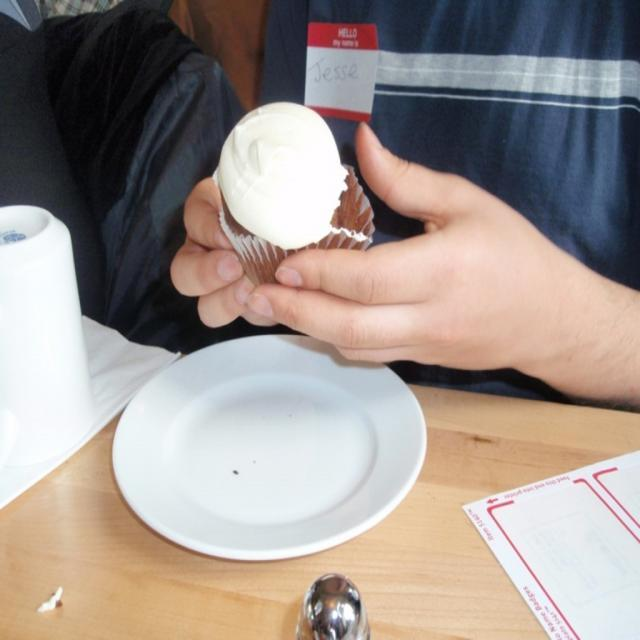ceramic plate: (108, 312, 430, 568)
